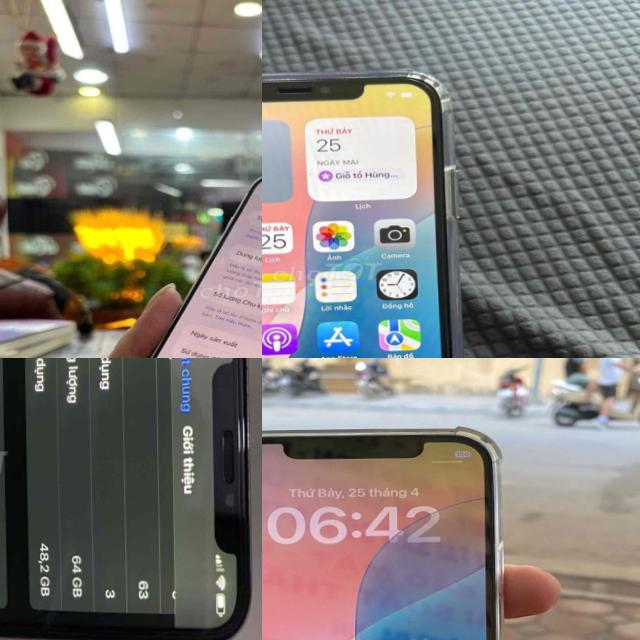gen_12_13: (262, 413, 522, 640)
gen_17: (93, 152, 262, 358)
gen_x_xs: (0, 358, 250, 640), (262, 70, 462, 358)
